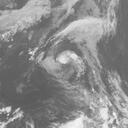cyclone: (41, 30, 101, 89)
